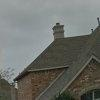Chimney: (45, 11, 67, 46)
